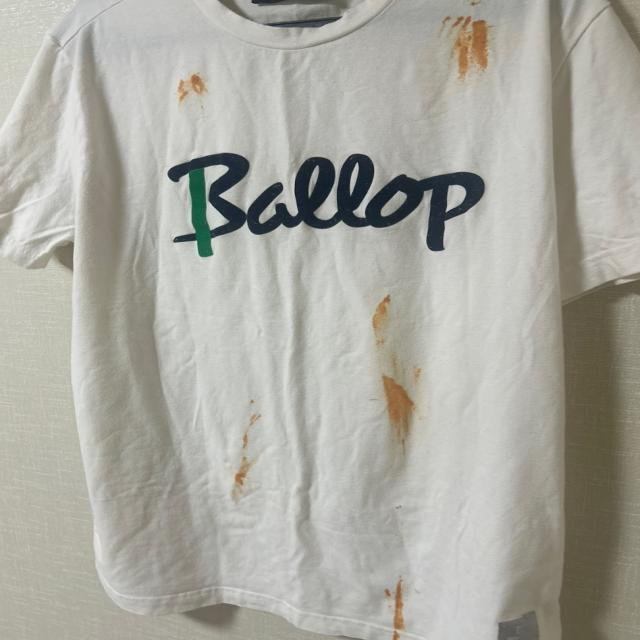stain: (216, 401, 270, 494), (372, 358, 430, 441), (432, 9, 503, 76), (380, 575, 414, 640), (367, 285, 395, 359), (174, 65, 211, 110), (464, 0, 484, 12)
